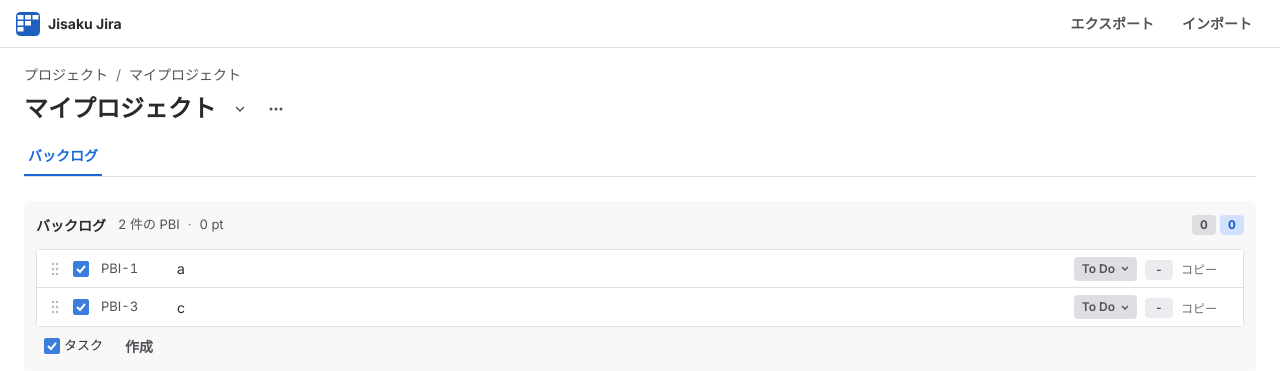
Test: コピー › クリップボードに書き込めないと「コピー失敗」にし、バックログは変えない
Click the button with aria-label "PBI-3 をコピー" at (1208, 308), box 1181,300 -> 1235,318
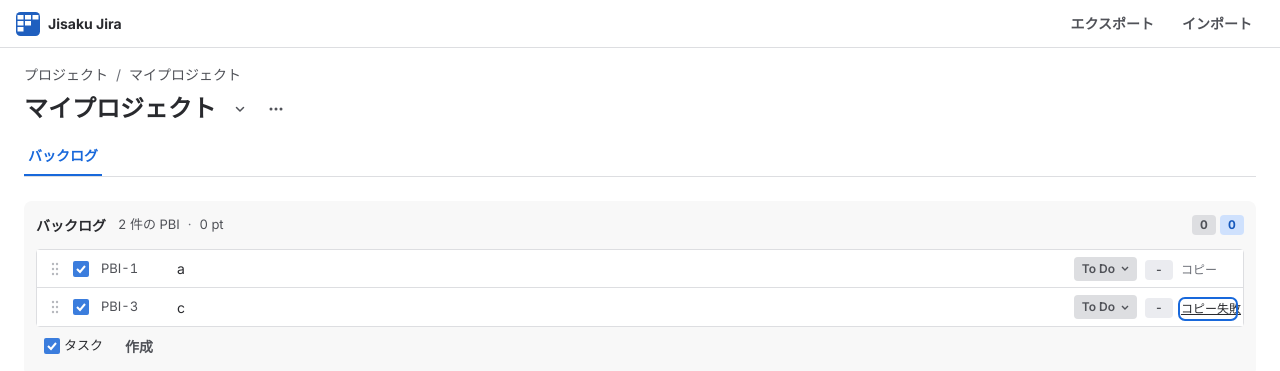
Expected: the button with aria-label "PBI-3 をコピー" reads "コピー失敗", 1181,300 -> 1235,318
